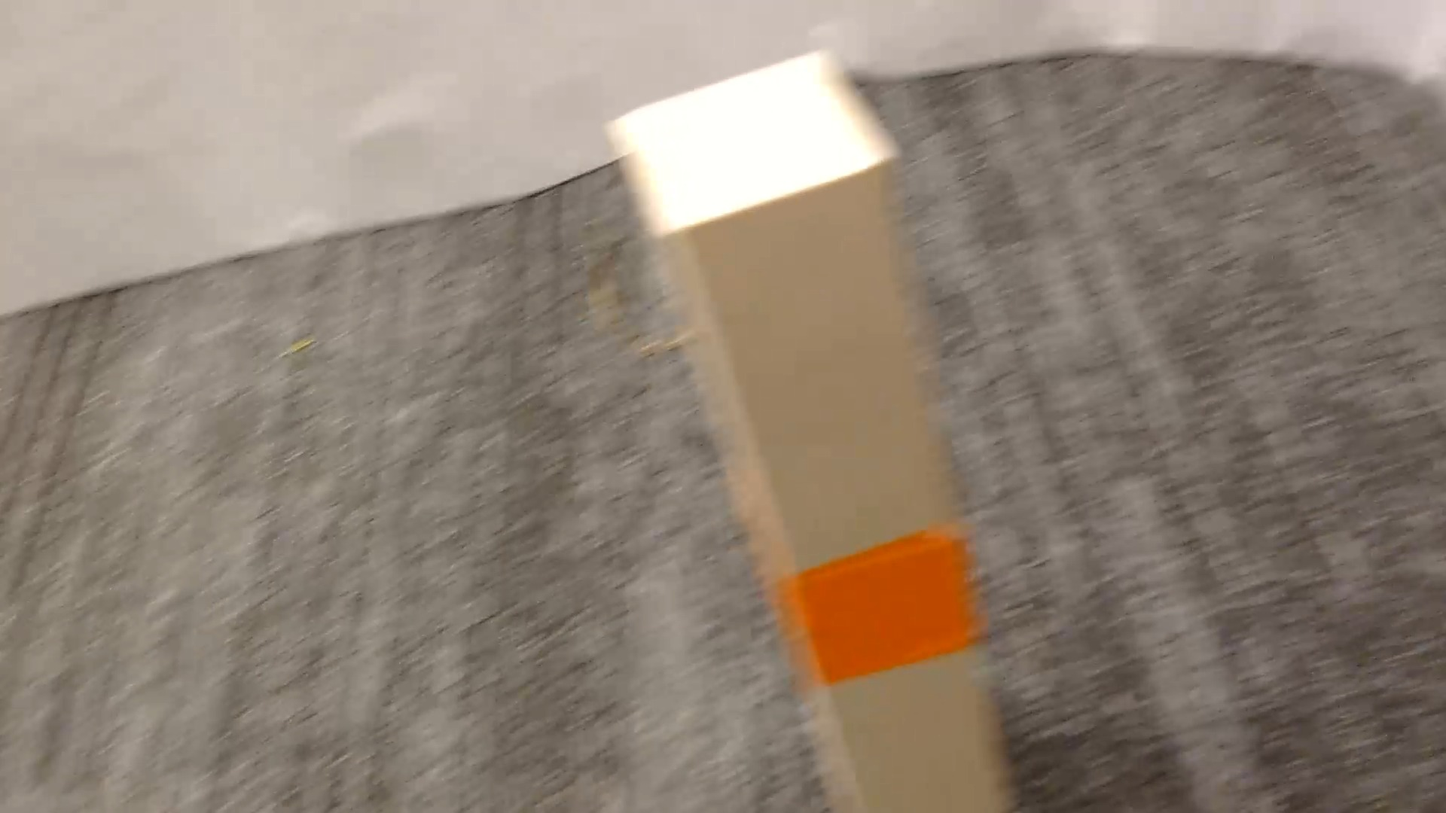Wooden Block: (608, 53, 1010, 812)
